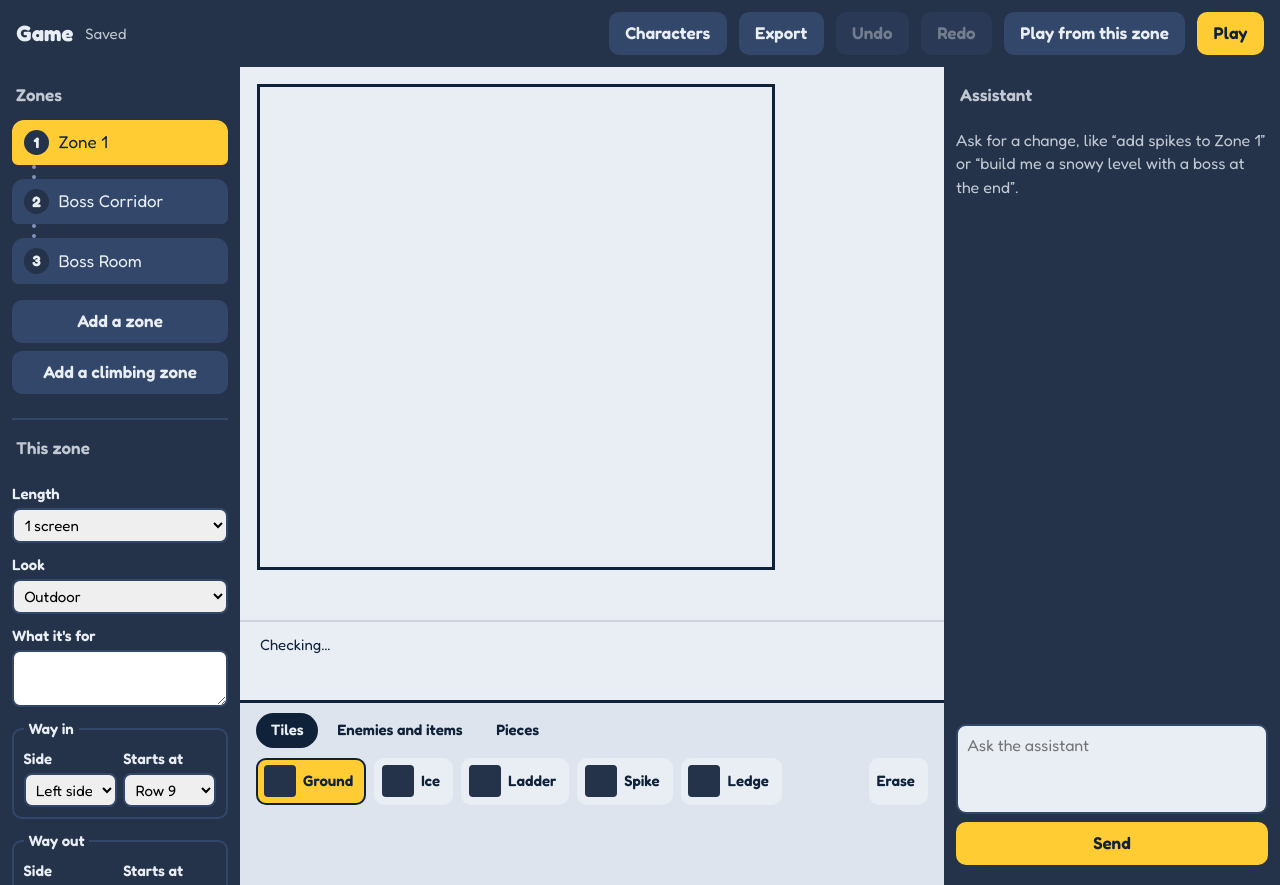
Scenario: the assistant in the editor › unlocks the level and puts it back if something unexpected breaks the turn
Type "Add spikes" into the text box named "Message". click: x=1112, y=769
box: [956,724,1268,814]
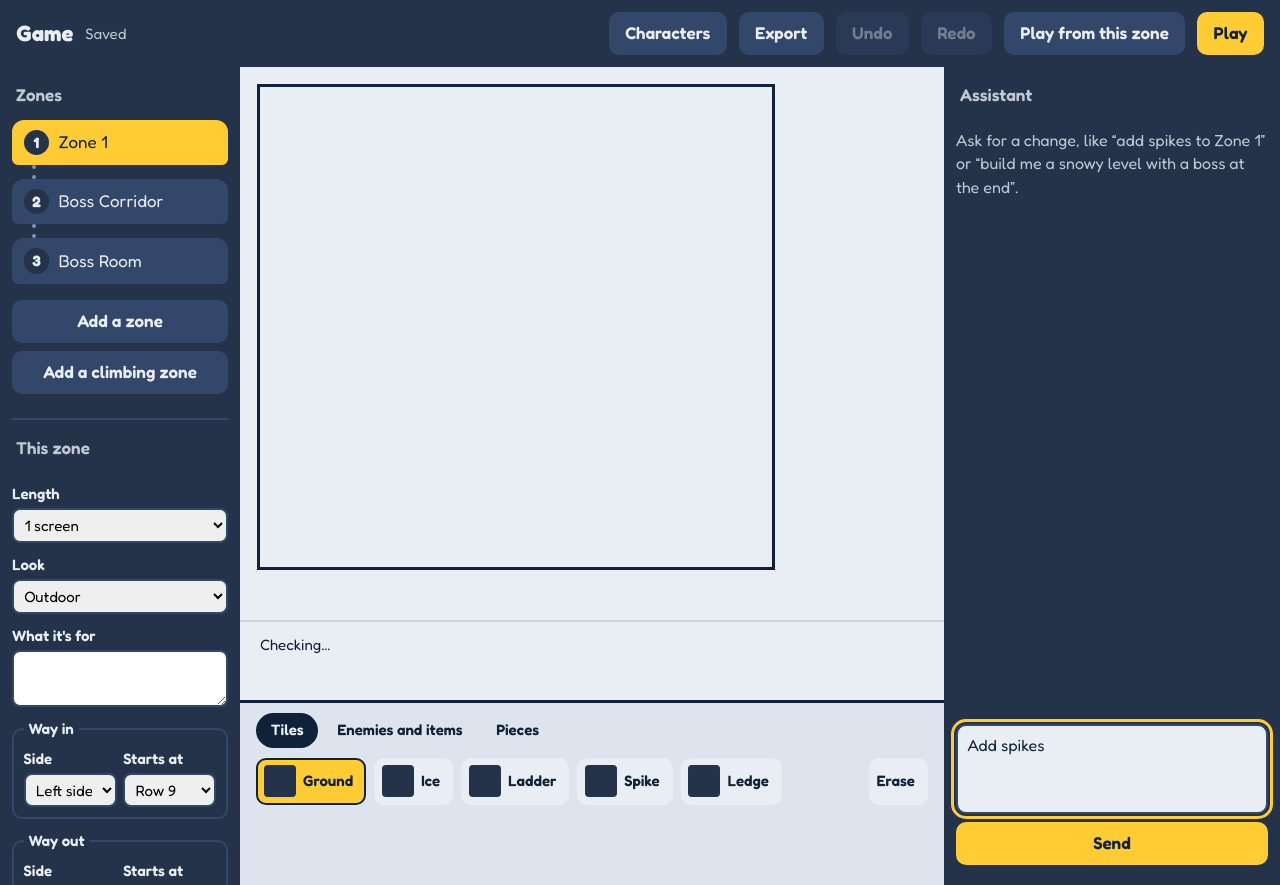
Click the button "Send". click: x=1112, y=843
box: [956,822,1268,865]
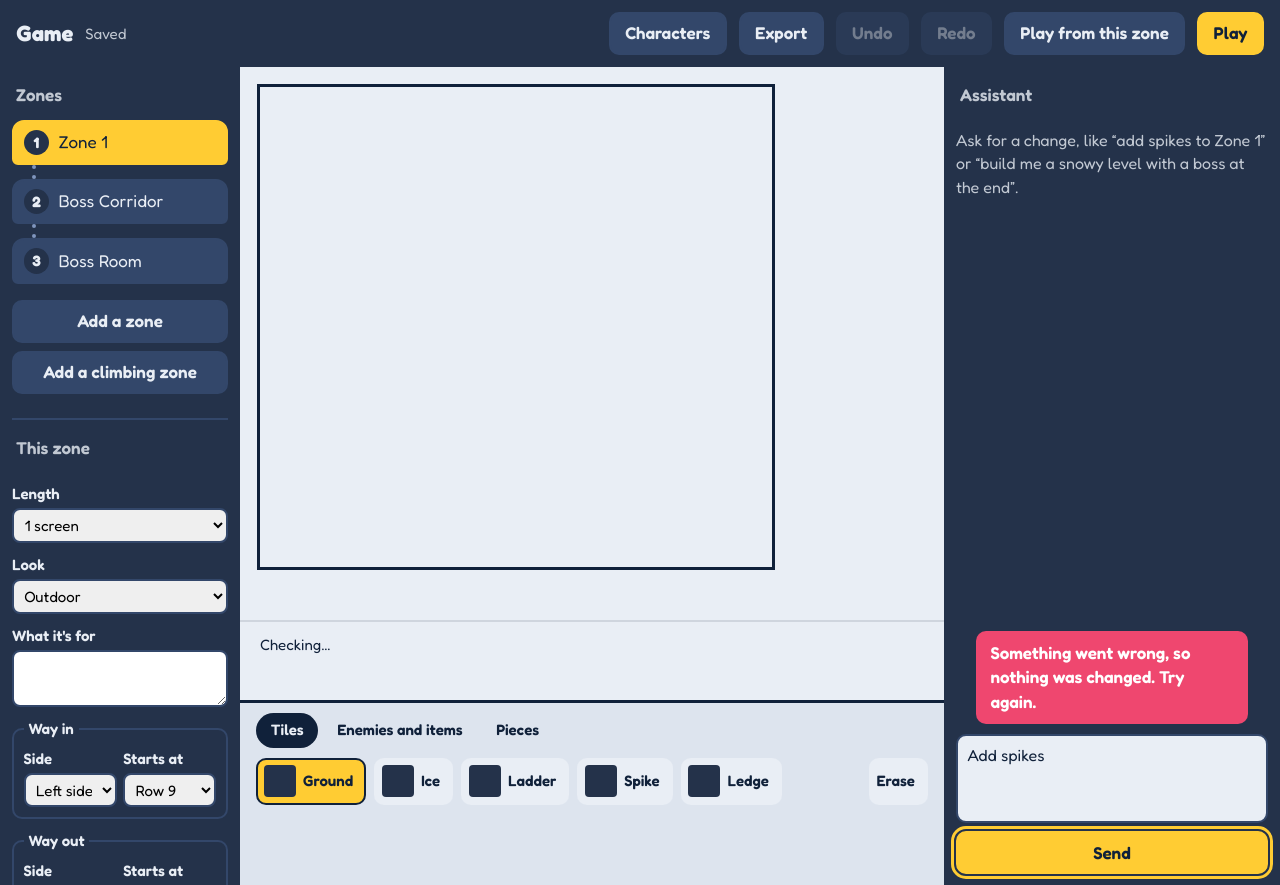
Check: the button "Add a zone" is enabled, box [12,300,228,343]
Check: the button "Send" is enabled, box [956,831,1268,874]
Check: the message "Something went wrong, so nothing was changed. Try again." is shown, box [976,631,1248,724]
